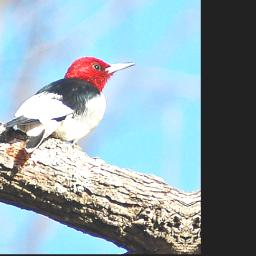Woodpecker: (1, 52, 139, 160)
